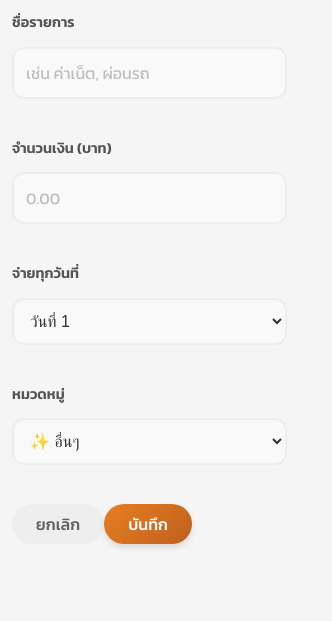
Test: BillBookForm Component › shows error when amount has too many decimals
The width and height of the screenshot is (332, 621).
Type "Valid Name" into the field labelled "ชื่อรายการ" at [150, 73], box [12, 47, 287, 99]
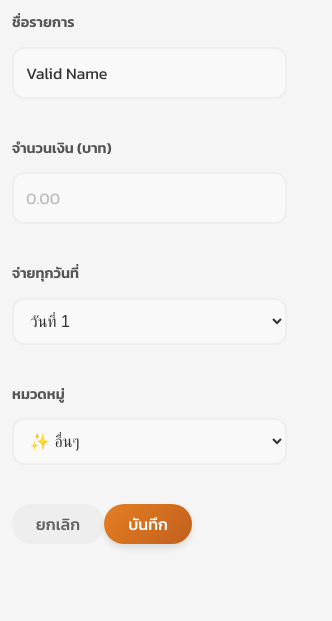
Type "100.555" into the number field labelled "จำนวนเงิน (บาท)" at [150, 198], box [12, 172, 287, 224]
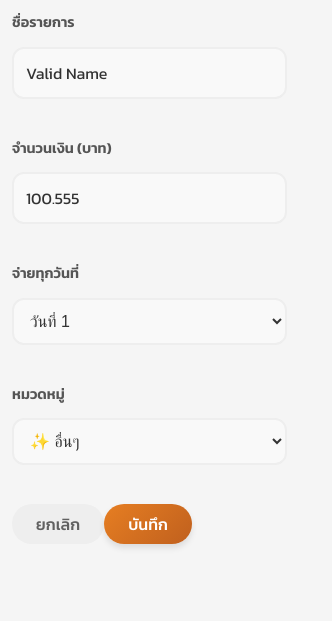
Click the button "บันทึก" at [148, 524], box [104, 504, 192, 544]
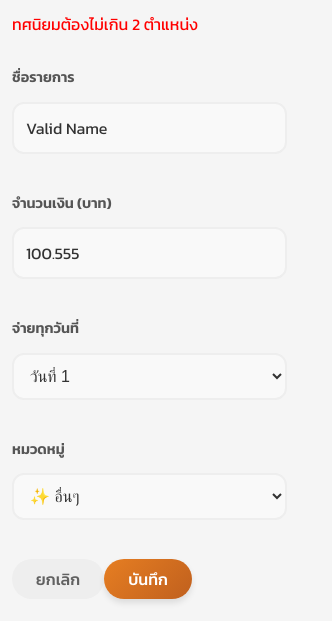
Expected: the text "ทศนิยมต้องไม่เกิน 2 ตำแหน่ง" is shown, [12, 12, 198, 36]
